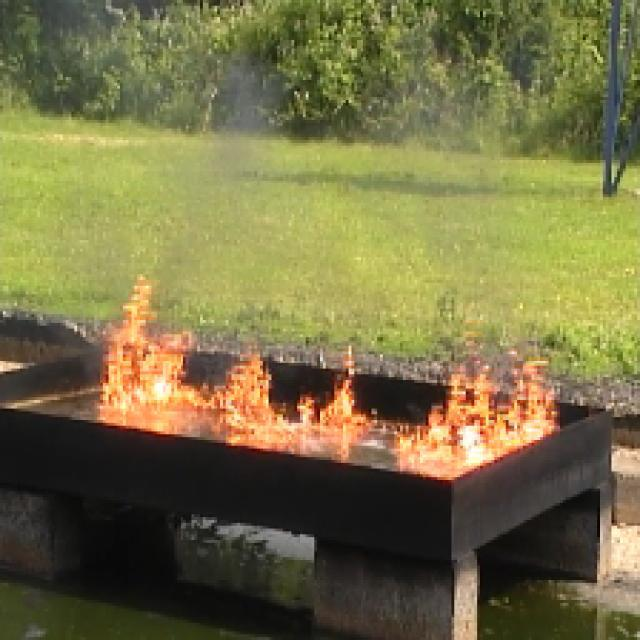Fire: (92, 315, 554, 449)
